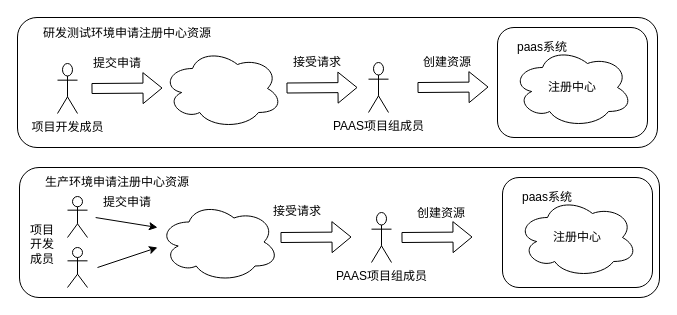
Some shapes in this 677 by 315 pixel diagram are drawn without their labels. Here are the shapes that lost their labels. From the top down, the box of each, then its label:
(162, 48, 282, 128): wiki
(158, 201, 279, 282): IT综合管理系统
